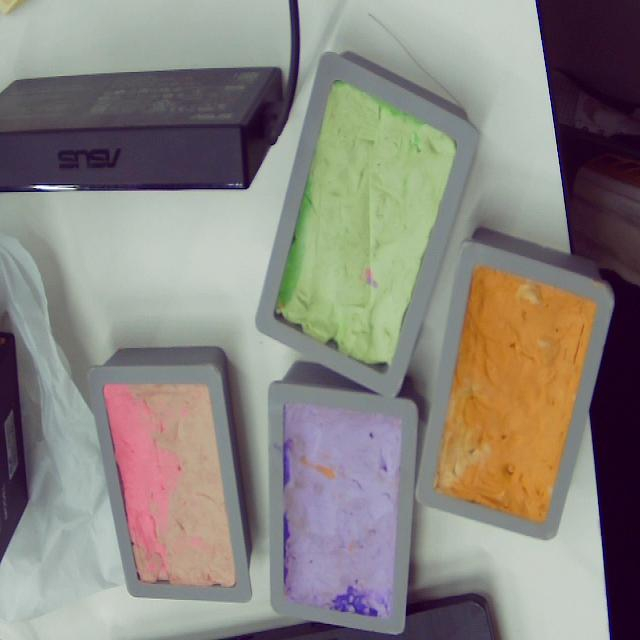block: (416, 226, 614, 553), (270, 68, 460, 394), (84, 343, 255, 602), (266, 372, 420, 636)
